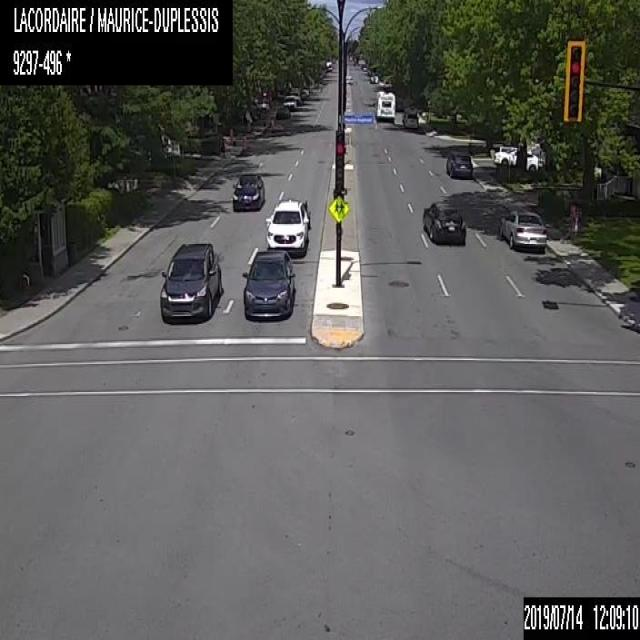bus: (372, 90, 394, 122), (325, 61, 332, 71)
construction: (227, 128, 232, 144), (269, 115, 275, 128), (240, 135, 245, 149), (246, 118, 249, 130)
vehicle: (158, 240, 221, 323), (241, 248, 296, 318), (266, 199, 310, 255), (498, 208, 546, 252), (421, 198, 465, 242), (231, 170, 264, 210), (492, 144, 539, 169), (444, 150, 472, 178), (401, 108, 417, 127), (274, 105, 290, 119), (283, 94, 297, 110)
